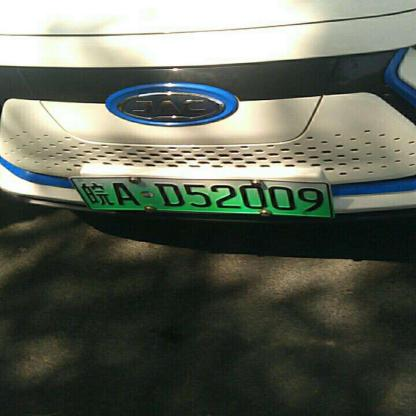lp: (70, 177, 332, 216)
